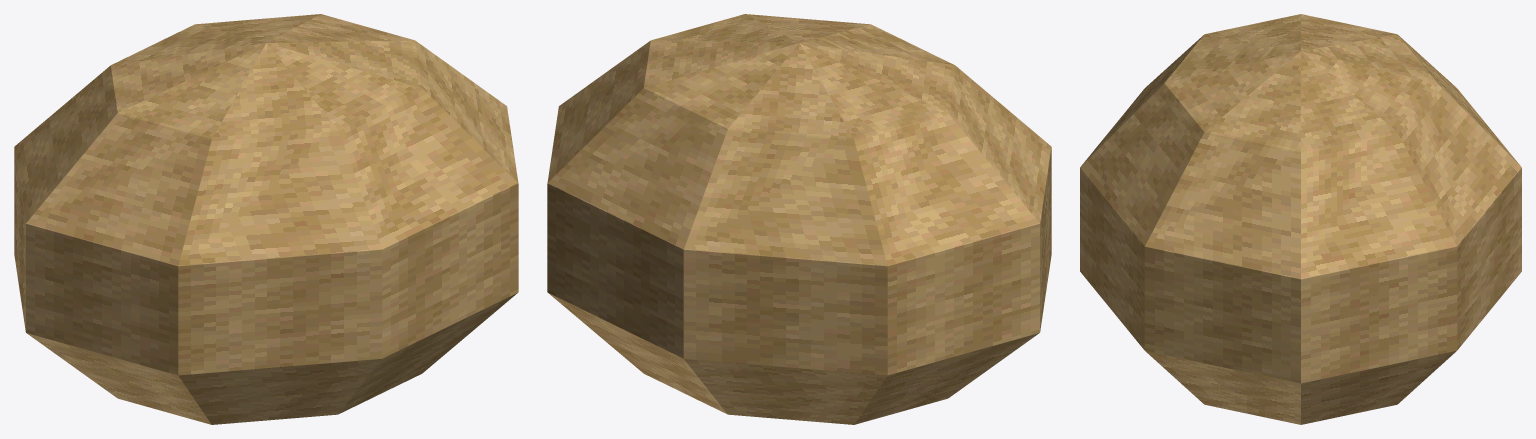
Rendered from batata.glb.
The picture shows the model from 3 angles, left to right: view 1: azimuth 30°, elevation 25°; view 2: azimuth 150°, elevation 25°; view 3: azimuth 270°, elevation 25°; orthographic projection. The views are drawn at different scales.
Visible parts, largest first — view 1: batata; view 2: batata; view 3: batata.
Boxes of the visible parts, left/top/right/bottom form: batata: left=14, top=14, right=518, bottom=424; batata: left=547, top=14, right=1051, bottom=424; batata: left=1080, top=14, right=1521, bottom=424.
Bounding box in the file's own units: 0.4109 × 0.288 × 0.3424.
Materials: 1 (1 with a texture image).
